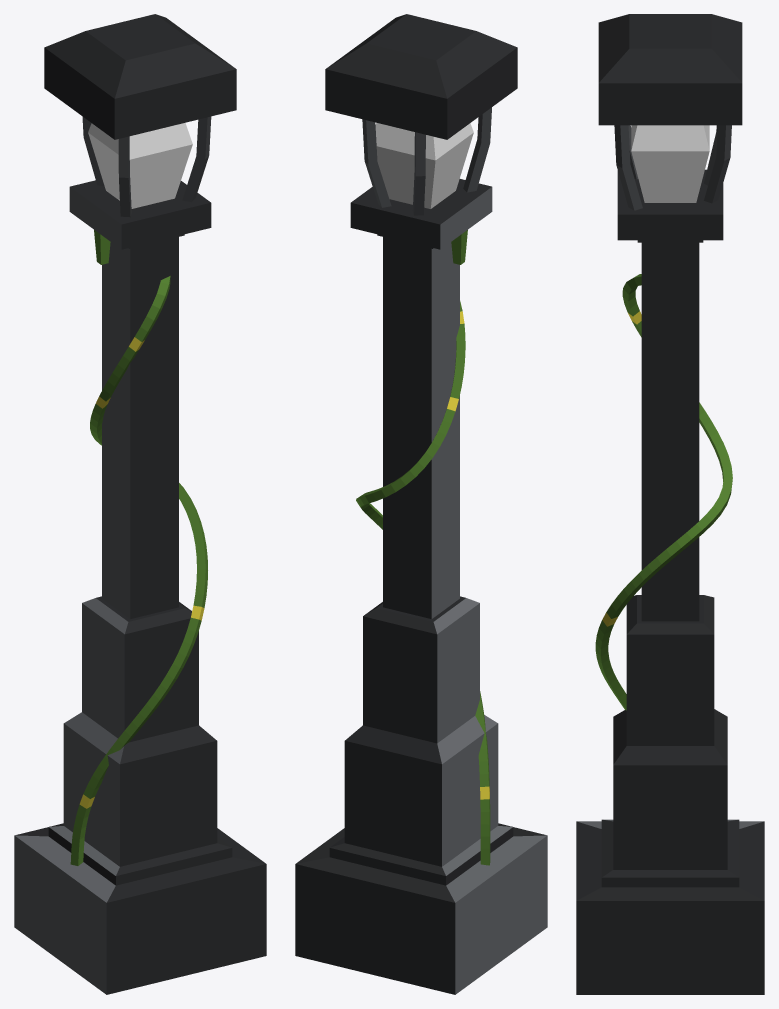
The model's file is StreetLight2.fbx.
3 views of the same model, side by side, from view 1: azimuth 30°, elevation 25°; view 2: azimuth 150°, elevation 25°; view 3: azimuth 270°, elevation 25° (orthographic). The views are drawn at different scales.
Parts seen in each view (by area): view 1: Cube, Cube.004; view 2: Cube, Cube.004; view 3: Cube, Cube.004.
Part boxes in pixels (bbox=[...]): Cube: bbox=[14, 14, 266, 994]; Cube.004: bbox=[70, 276, 207, 865]; Cube: bbox=[295, 14, 547, 994]; Cube.004: bbox=[356, 301, 490, 865]; Cube: bbox=[576, 14, 764, 994]; Cube.004: bbox=[595, 274, 732, 710].
Bounding box in the file's own units: 200 × 1081 × 200.
